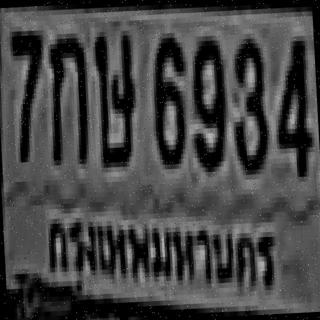A01: (45, 28, 89, 161)
A39: (92, 26, 137, 163)
N03: (229, 34, 266, 170)
N04: (271, 31, 312, 173)
N06: (148, 30, 186, 163)
N07: (9, 26, 44, 158)
N09: (186, 31, 226, 168)
P04: (44, 193, 281, 310)
